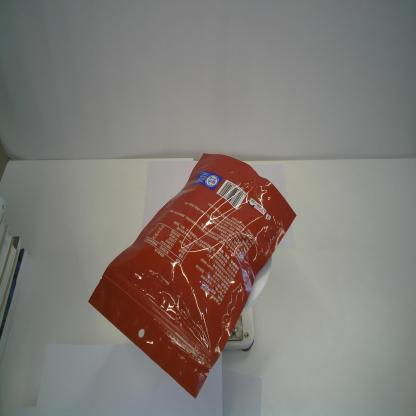Dried Food: (88, 152, 297, 400)
